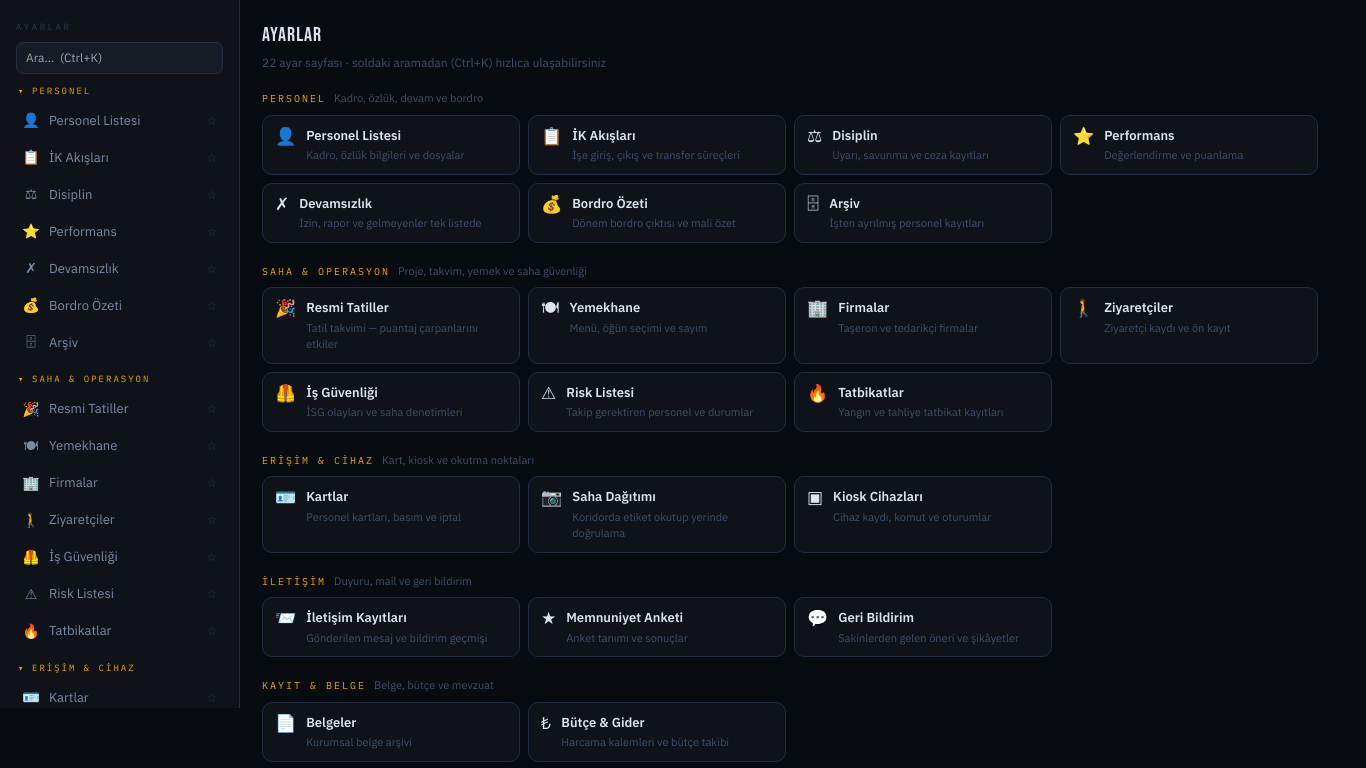
Test case: arama › amir için yönetici sayfası aramada çıkmaz
Step 1. Type "yedek" into the search field named "Ayarlarda ara" → point(120, 58), box [16,42,223,74]
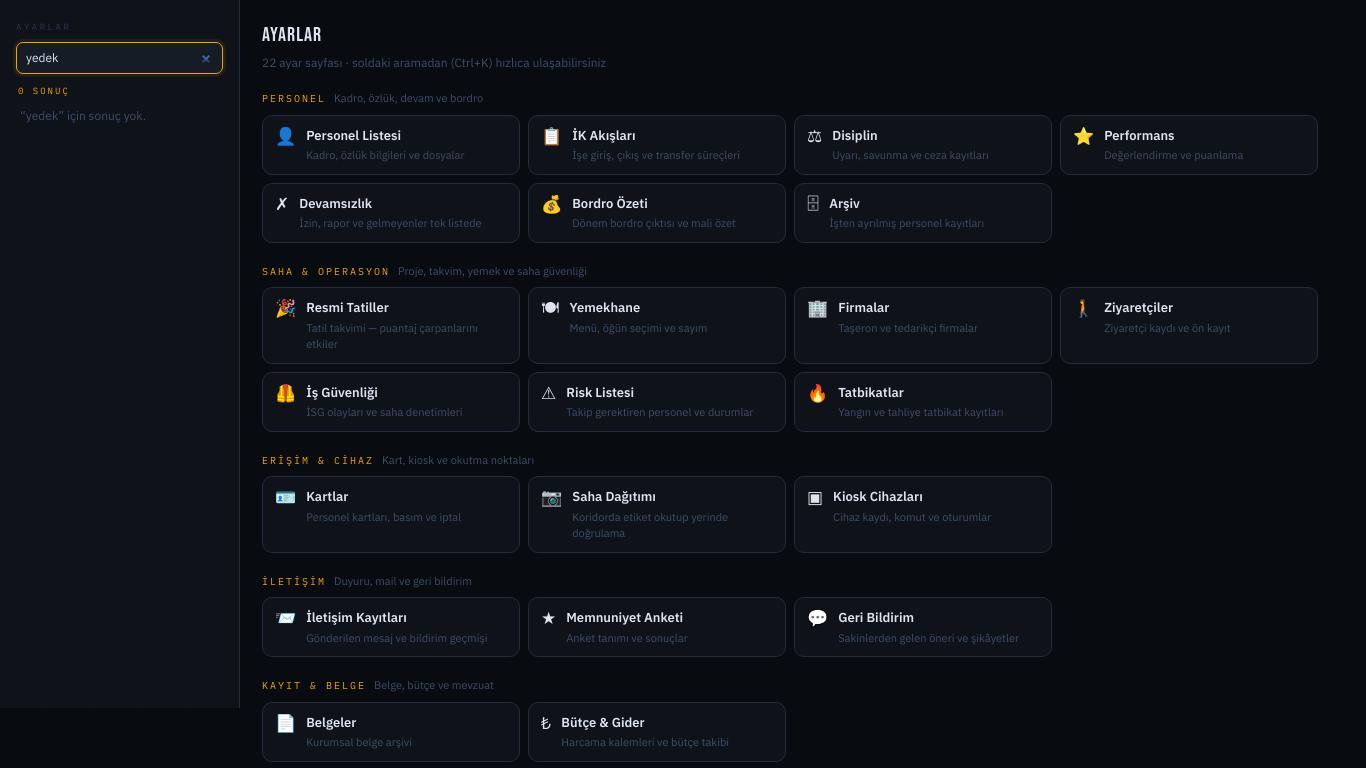
Check: the text "“yedek” için sonuç yok." is shown, box [20,108,146,123]
